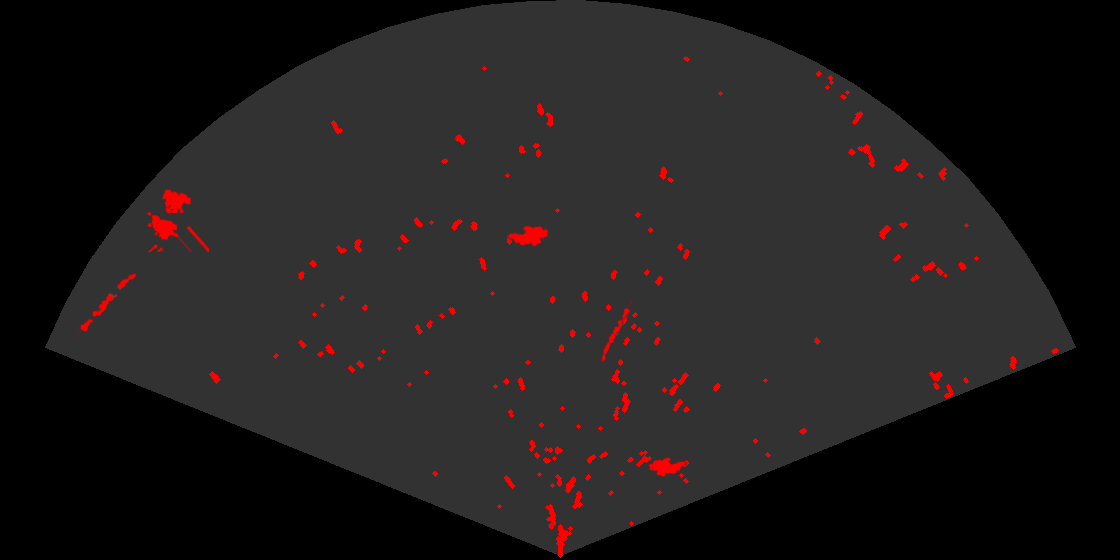AUV: (506, 224, 550, 248), (647, 456, 688, 479)
cage: (146, 188, 209, 252)
chain: (73, 272, 138, 337), (600, 301, 635, 363)
